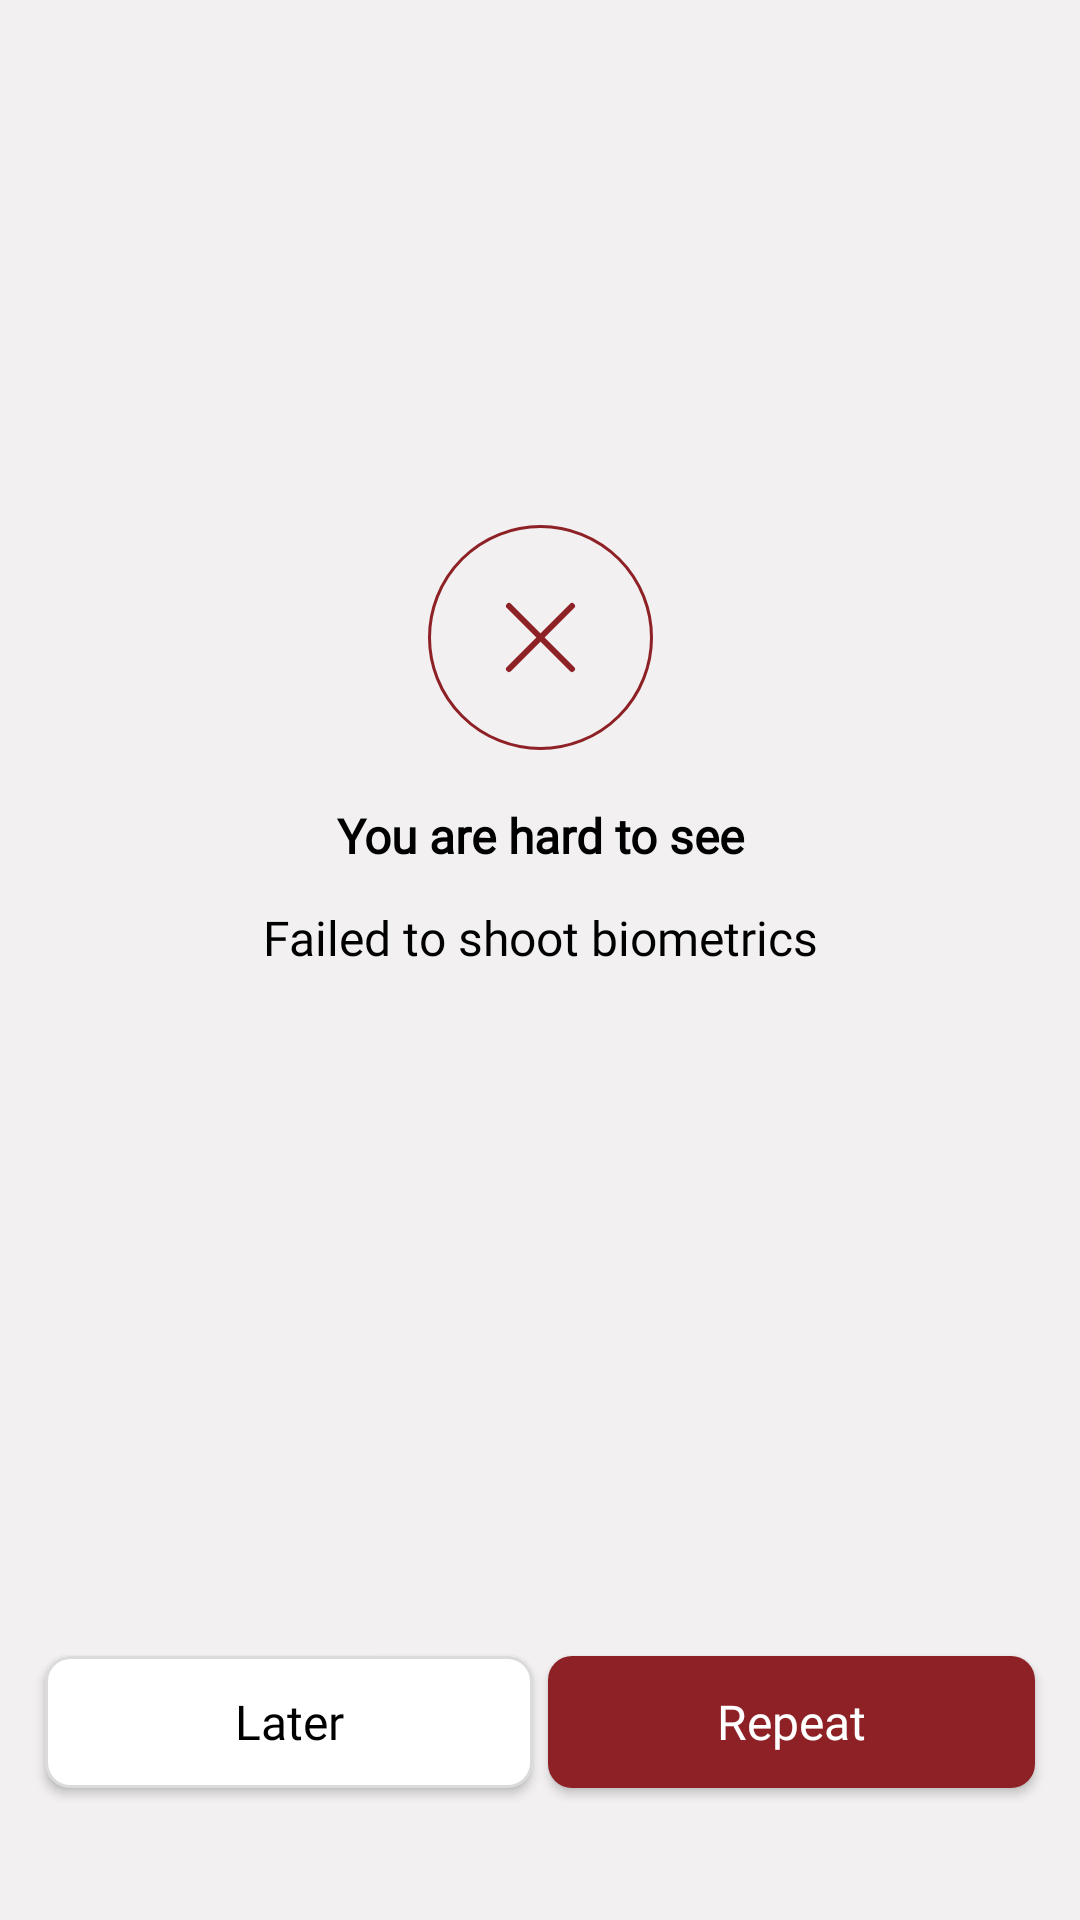

Where to tap for icons on this 1080 x 1920 app screen, as (x,y):
bank auth invalid: (540,637)
